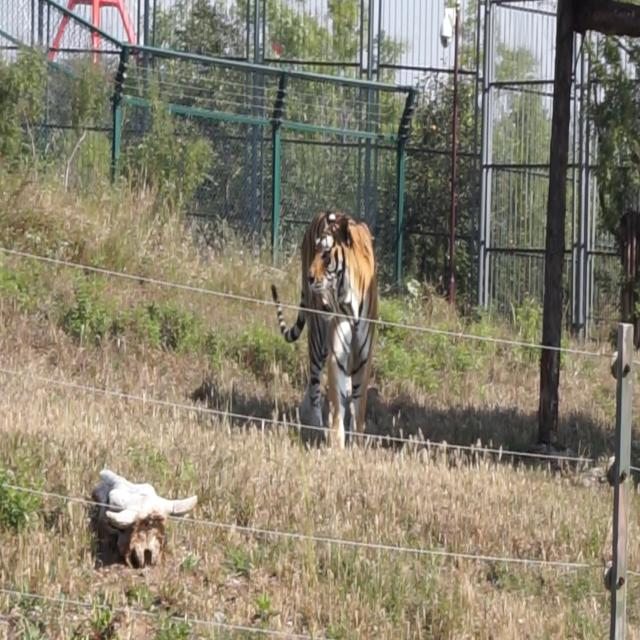Tiger: (272, 194, 389, 446)
